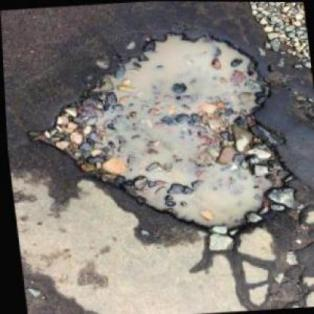Hueco: (16, 24, 303, 250)
